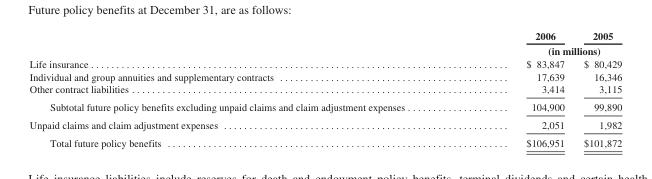table: (28, 29, 621, 148)
table column: (28, 29, 464, 148), (464, 29, 573, 148), (573, 29, 621, 148)
table column header: (28, 29, 621, 56)
table row: (28, 97, 621, 115), (28, 115, 621, 133), (28, 82, 621, 97), (28, 133, 621, 148), (28, 42, 621, 56), (28, 29, 621, 42), (28, 56, 621, 69), (28, 69, 621, 82)
table spanning cell: (464, 42, 621, 56)
